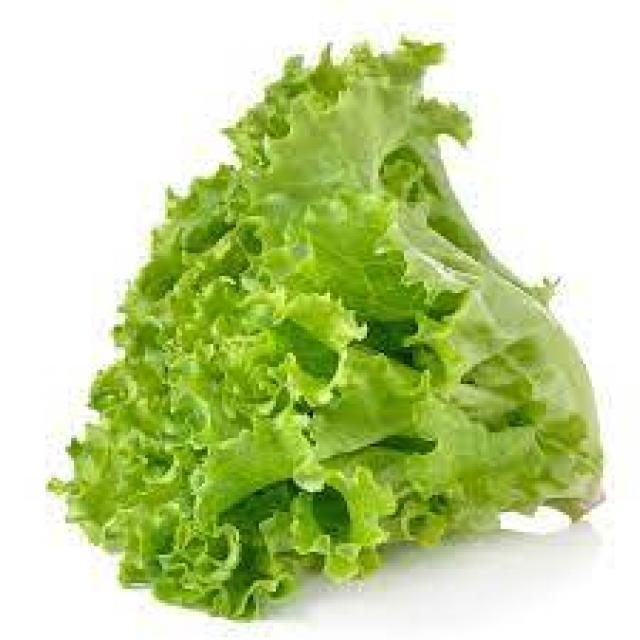Lettuce: (41, 34, 608, 622)
